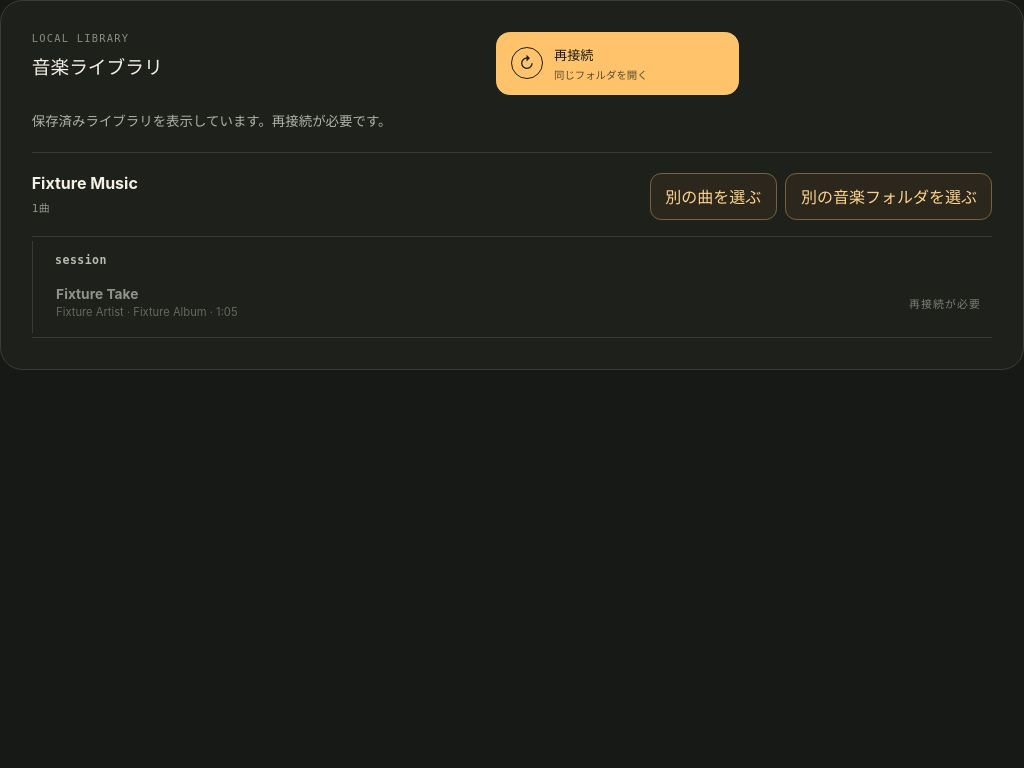
LibraryWorkspace › moves focus to the new library root after choosing a different folder
What coordinates should you click on to do the following:
click the button "別の音楽フォルダを選ぶ"
I would click on:
 (889, 196)
Its box is [786,173,992,220].
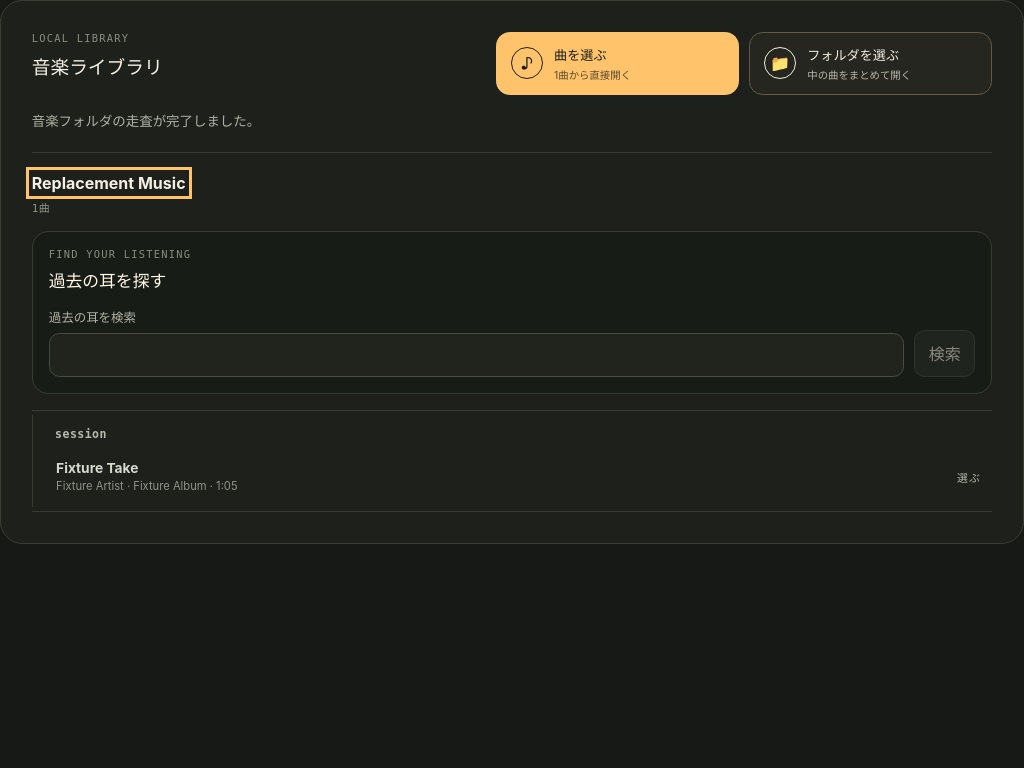
expect the button "別の音楽フォルダを選ぶ" is gone: met
